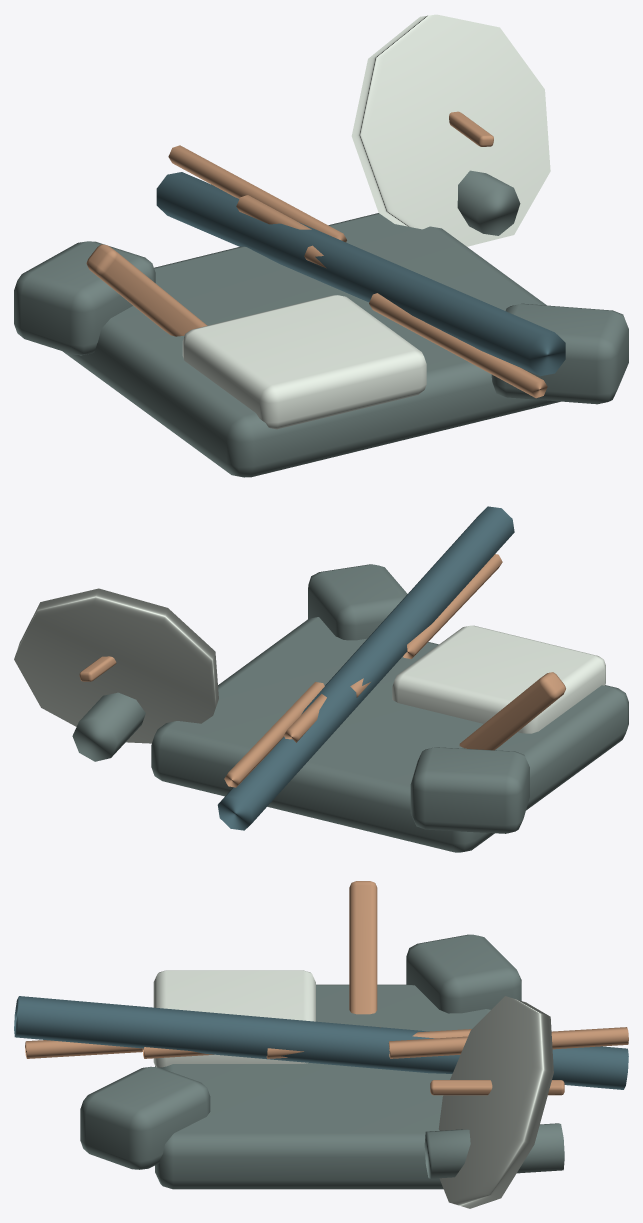
File: collapsed-comms-mast.glb
3 renders of one model, top to bottom at view 1: azimuth 30°, elevation 25°; view 2: azimuth 150°, elevation 25°; view 3: azimuth 270°, elevation 25°, orthographic. The views are drawn at different scales.
Parts seen in each view (by area): view 1: Mast anchor slab, Crushed relay dish, Broken anchor footing, Collapsed mast spine, Concrete rubble, Concrete rubble.001, Kinked support leg, Mast cross brace, Dish mount, Mast cross brace.003, Mast cross brace.002, Relay dish fracture; view 2: Mast anchor slab, Crushed relay dish, Collapsed mast spine, Broken anchor footing, Concrete rubble, Concrete rubble.001, Dish mount, Kinked support leg, Mast cross brace.003, Mast cross brace, Mast cross brace.002, Relay dish fracture; view 3: Mast anchor slab, Collapsed mast spine, Crushed relay dish, Concrete rubble.001, Broken anchor footing, Concrete rubble, Kinked support leg, Dish mount, Mast cross brace.003, Mast cross brace, Relay dish fracture, Mast cross brace.002 (+1 smaller).
Part boxes in pixels (left/top/right/bottom): Mast anchor slab: left=63, top=213, right=560, bottom=477; Crushed relay dish: left=351, top=14, right=550, bottom=246; Broken anchor footing: left=182, top=295, right=426, bottom=429; Collapsed mast spine: left=156, top=172, right=565, bottom=376; Concrete rubble: left=14, top=241, right=155, bottom=355; Concrete rubble.001: left=491, top=303, right=628, bottom=404; Kinked support leg: left=86, top=244, right=207, bottom=336; Mast cross brace: left=369, top=293, right=547, bottom=398; Dish mount: left=457, top=170, right=520, bottom=235; Mast cross brace.003: left=168, top=145, right=346, bottom=242; Mast cross brace.002: left=236, top=195, right=311, bottom=229; Relay dish fracture: left=449, top=111, right=493, bottom=146; Mast anchor slab: left=151, top=617, right=628, bottom=852; Crushed relay dish: left=14, top=588, right=218, bottom=743; Collapsed mast spine: left=217, top=506, right=514, bottom=830; Broken anchor footing: left=392, top=625, right=605, bottom=733; Concrete rubble: left=410, top=747, right=529, bottom=833; Concrete rubble.001: left=308, top=564, right=407, bottom=640; Dish mount: left=72, top=692, right=145, bottom=761; Kinked support leg: left=459, top=672, right=565, bottom=750; Mast cross brace.003: left=224, top=682, right=324, bottom=787; Mast cross brace: left=403, top=554, right=502, bottom=658; Mast cross brace.002: left=284, top=694, right=326, bottom=742; Relay dish fracture: left=79, top=656, right=116, bottom=681; Mast anchor slab: left=155, top=984, right=490, bottom=1189; Collapsed mast spine: left=14, top=996, right=628, bottom=1089; Crushed relay dish: left=438, top=996, right=553, bottom=1208; Concrete rubble.001: left=80, top=1066, right=210, bottom=1169; Broken anchor footing: left=153, top=970, right=315, bottom=1067; Concrete rubble: left=406, top=934, right=521, bottom=1013; Kinked support leg: left=349, top=881, right=377, bottom=1014; Dish mount: left=424, top=1123, right=564, bottom=1178; Mast cross brace.003: left=388, top=1027, right=628, bottom=1058; Mast cross brace: left=25, top=1040, right=142, bottom=1058; Relay dish fracture: left=430, top=1080, right=564, bottom=1095; Mast cross brace.002: left=266, top=1029, right=471, bottom=1058.
Size of the model in its own units: 2.06 by 0.8017 by 2.2.
